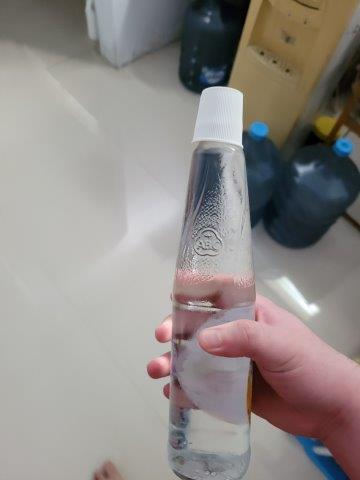botolkaca: (173, 84, 258, 480)
